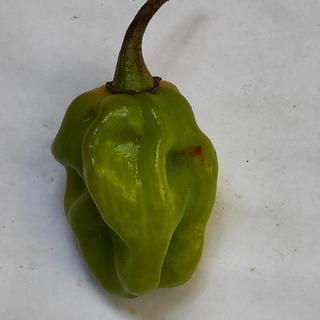Grade-A: (44, 70, 219, 301)
